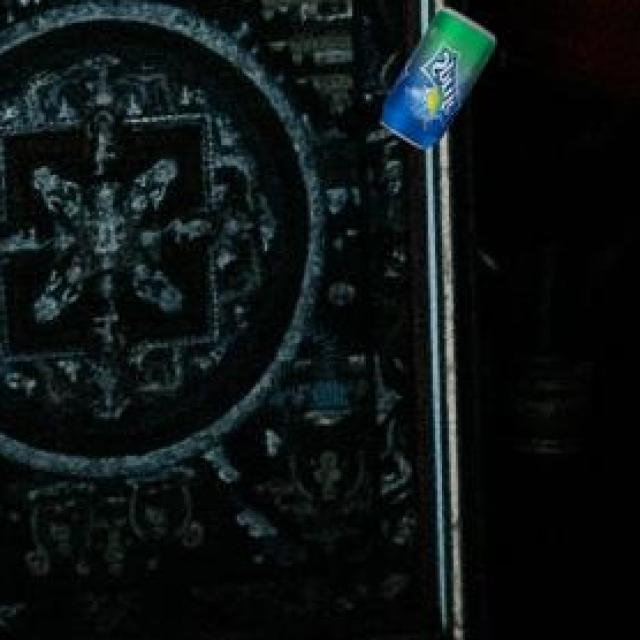logam: (379, 10, 492, 153)
